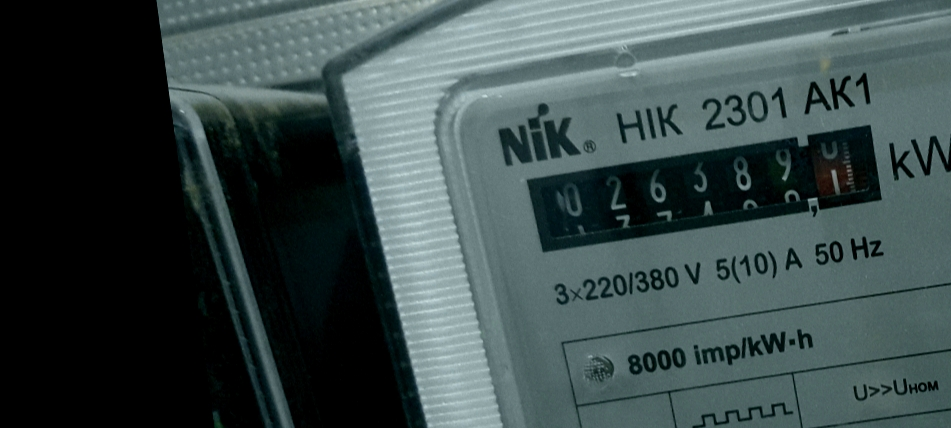0: (558, 177, 586, 219), (819, 138, 840, 160)
1: (827, 164, 843, 197)
2: (602, 170, 630, 212)
3: (688, 158, 710, 195)
6: (645, 164, 668, 205)
8: (730, 152, 755, 192)
9: (773, 145, 795, 181)
screen: (510, 110, 900, 265)
